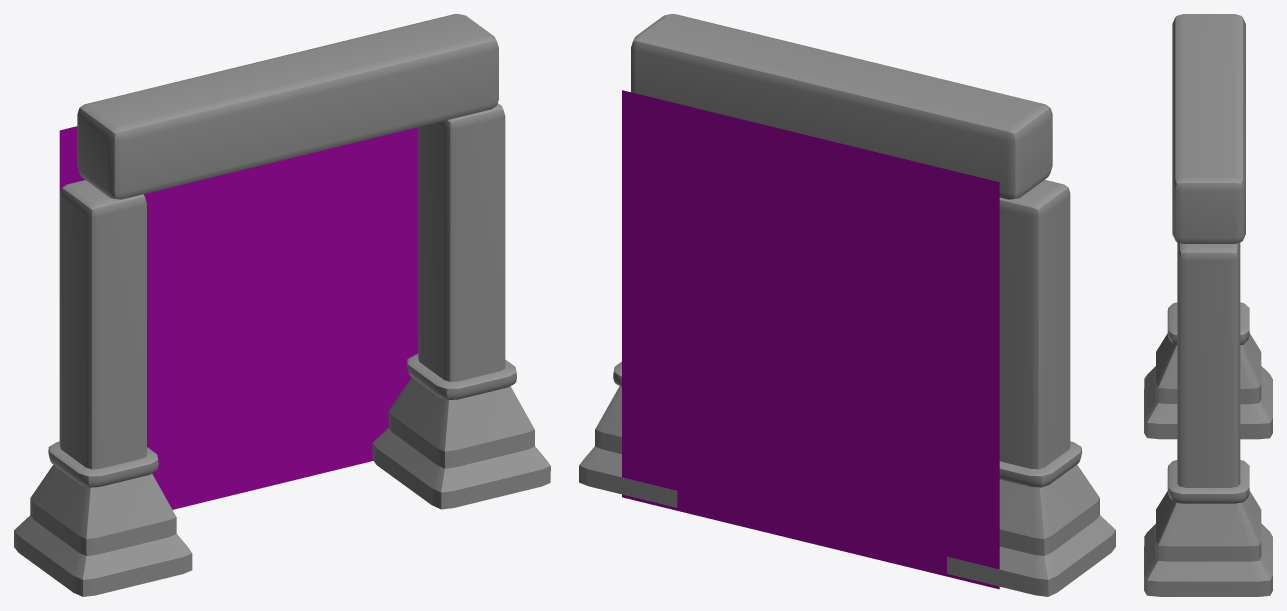
File: ruins.fbx
3 renders of one model, left to right at view 1: azimuth 30°, elevation 25°; view 2: azimuth 150°, elevation 25°; view 3: azimuth 270°, elevation 25°, orthographic. The views are drawn at different scales.
Visible parts, largest first — view 1: pPlane2; view 2: pPlane2; view 3: pPlane2.
Part boxes in pixels (<box>): pPlane2: <box>14,14,550,596</box>; pPlane2: <box>579,14,1115,596</box>; pPlane2: <box>1144,14,1272,596</box>.
Bounding box in the file's own units: 5133 × 4622 × 1340.
